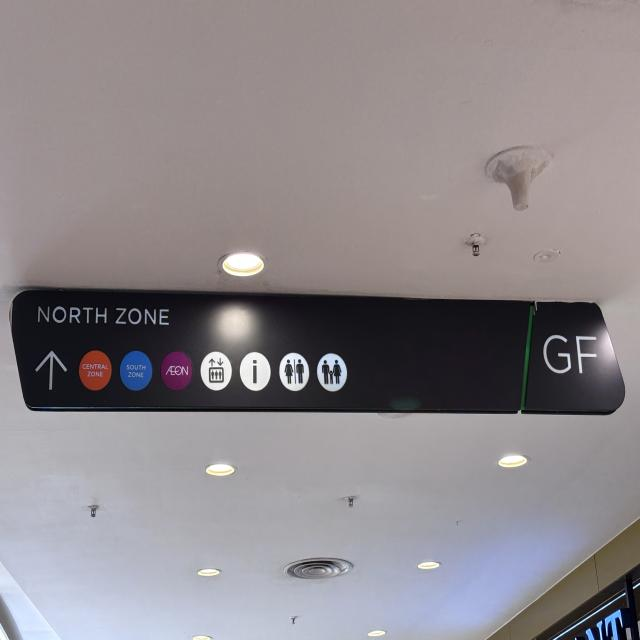lift_icon: (206, 354, 226, 387)
toilet_icon: (283, 356, 306, 391)
